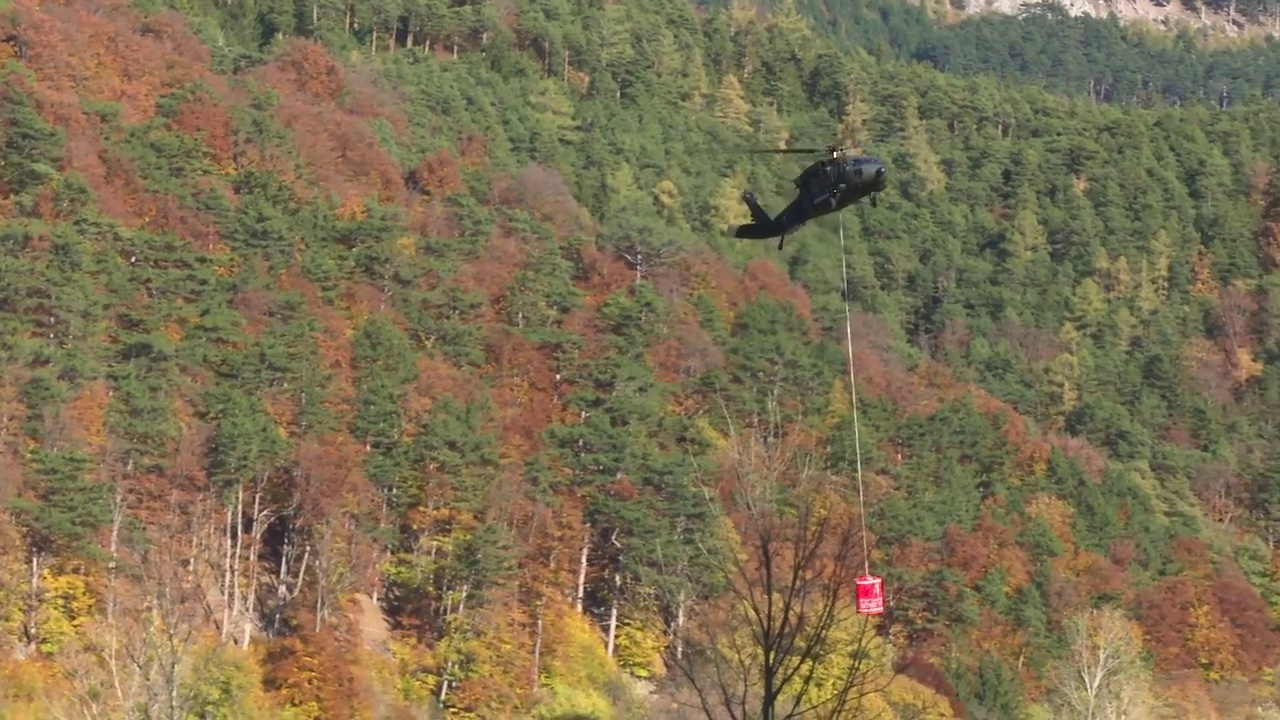heli: (725, 140, 889, 250)
